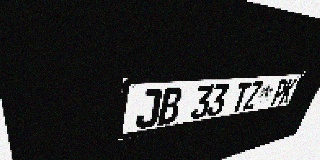3: (190, 85, 215, 120), (206, 83, 230, 117)
B: (157, 87, 184, 126)
J: (135, 88, 162, 130)
K: (279, 78, 298, 104)
P: (269, 79, 289, 105)
T: (230, 82, 252, 113)
Z: (242, 81, 264, 110)
